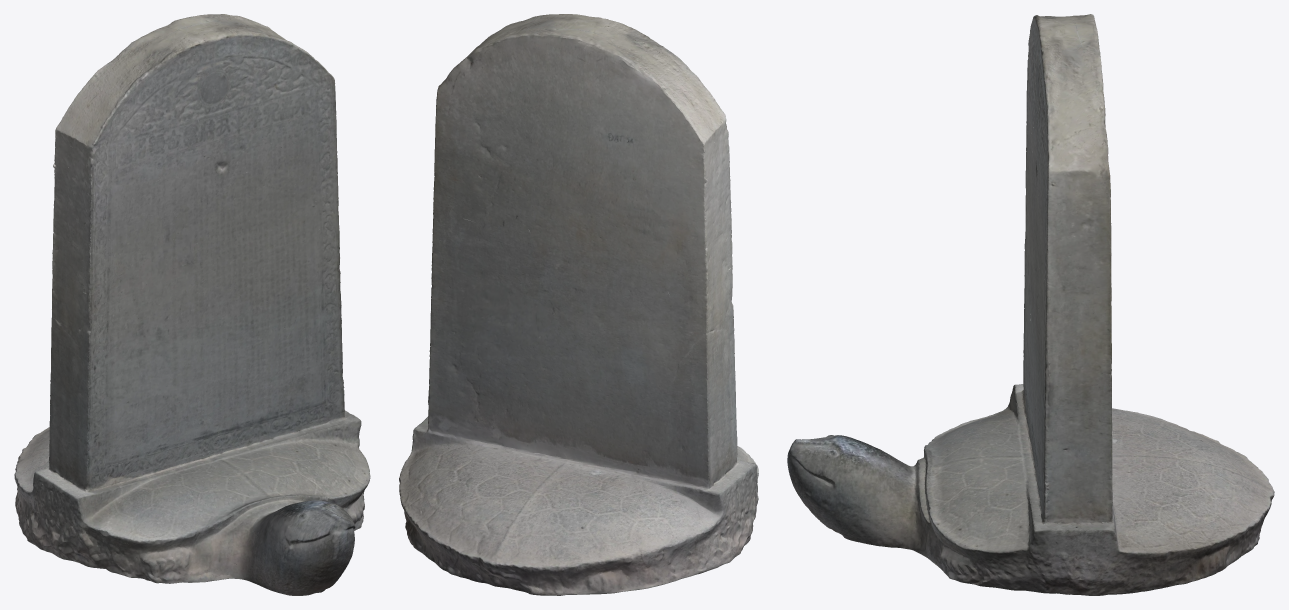
Rendered from bia-1661.glb.
3 views of the same model, side by side, from view 1: azimuth 30°, elevation 25°; view 2: azimuth 150°, elevation 25°; view 3: azimuth 270°, elevation 25° (orthographic). The views are drawn at different scales.
Visible parts, largest first — view 1: 11-1661; view 2: 11-1661; view 3: 11-1661.
Part boxes in pixels (x1,y1,x2,y2): 11-1661: [14, 14, 370, 595]; 11-1661: [399, 14, 758, 595]; 11-1661: [787, 14, 1274, 595].
Bounding box in the file's own units: 0.6606 × 1 × 0.8896.
Materials: 1 (1 with a texture image).
